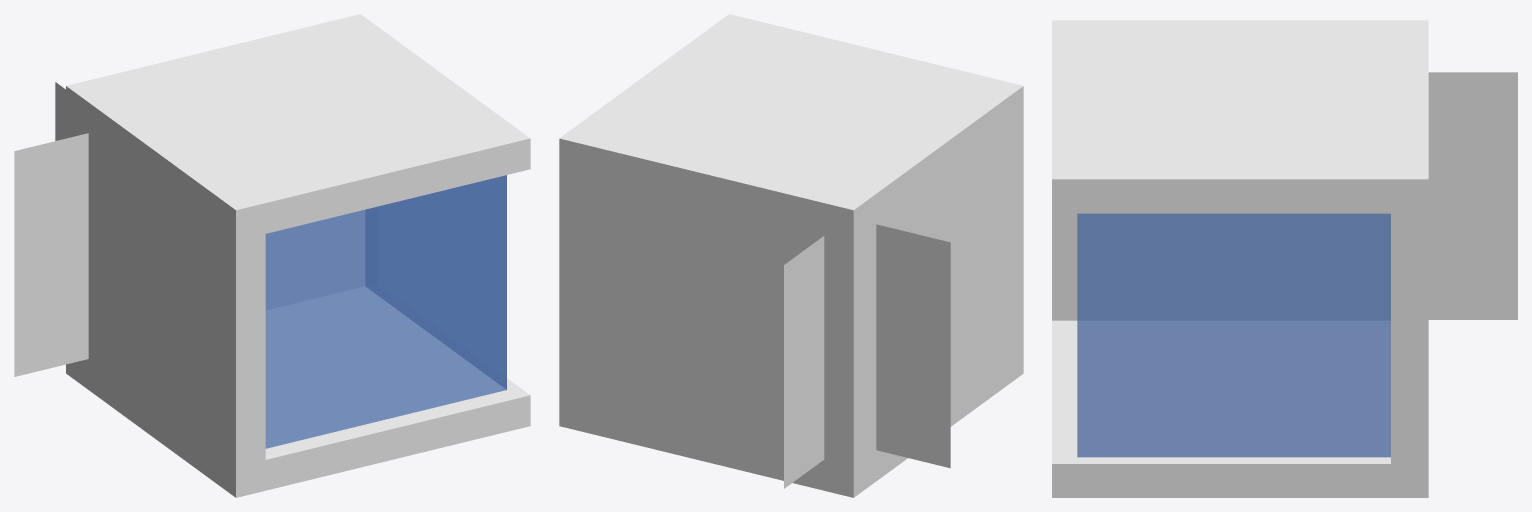
File: museum-box.dae
3 renders of one model, left to right at view 1: azimuth 30°, elevation 25°; view 2: azimuth 150°, elevation 25°; view 3: azimuth 270°, elevation 25°, orthographic. The views are drawn at different scales.
Visible parts, largest first — view 1: SketchUp (×4), image_1, image_0; view 2: SketchUp (×2), image_1, image_0; view 3: SketchUp (×3), image_0.
Boxes of the visible parts, x1,y1,x2,y2 form: SketchUp (×4): (66,14,530,497); image_1: (14,133,88,376); image_0: (55,82,65,140); SketchUp (×2): (559,14,1023,497); image_1: (876,224,950,468); image_0: (784,236,824,488); SketchUp (×3): (1052,20,1428,497); image_0: (1428,72,1517,319).
Size of the model in its own units: 14.79 by 14.6 by 11.02.
